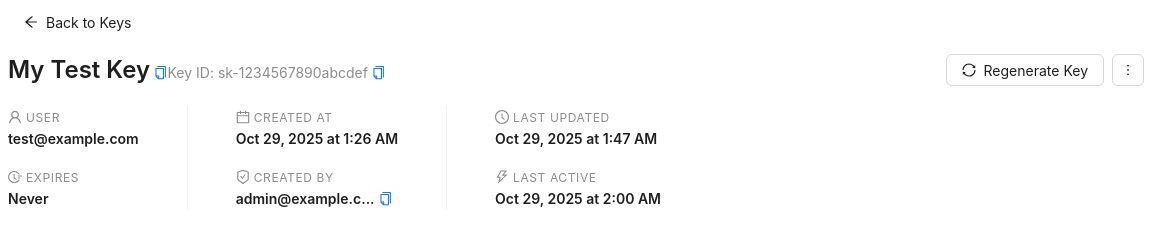
Test: KeyInfoHeader › destructive actions dropdown › should omit Block Key and Reset Spend when their handlers are not provided
Click the button named "more key actions".
click(1128, 70)  # box [1112,54,1144,86]
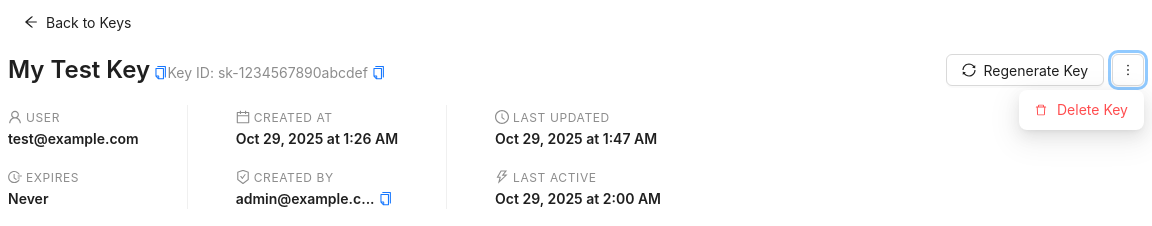
expect the menu item "Delete Key" is shown: met, box [1035,101,1128,118]
